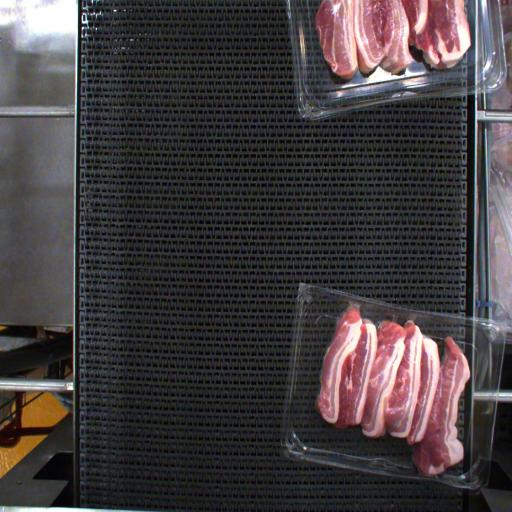packaging-error: (383, 304, 426, 332), (345, 296, 371, 317)
